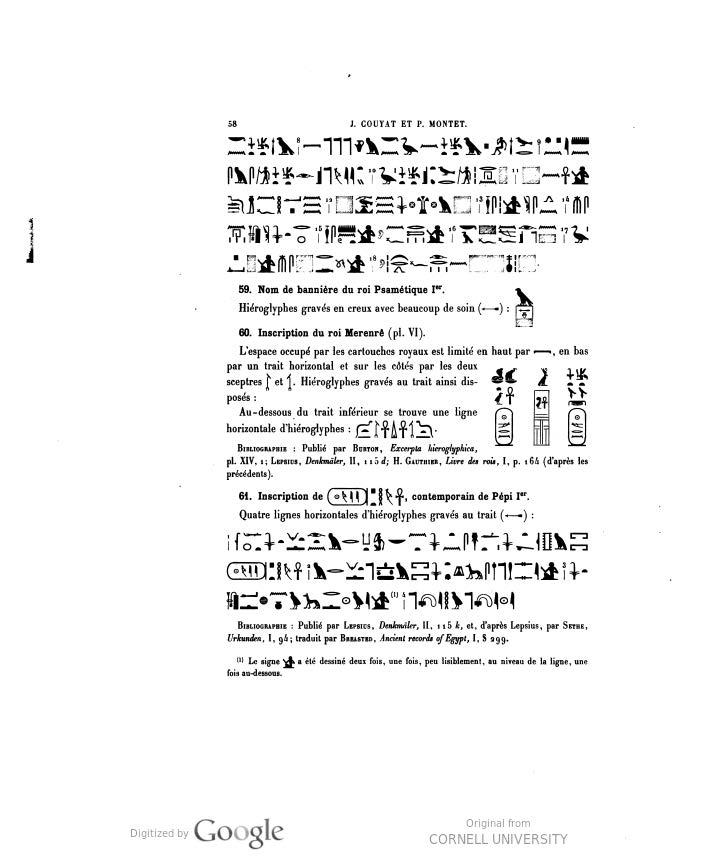circle: (558, 405, 598, 458), (217, 555, 279, 588), (322, 480, 381, 512), (488, 407, 521, 452)
